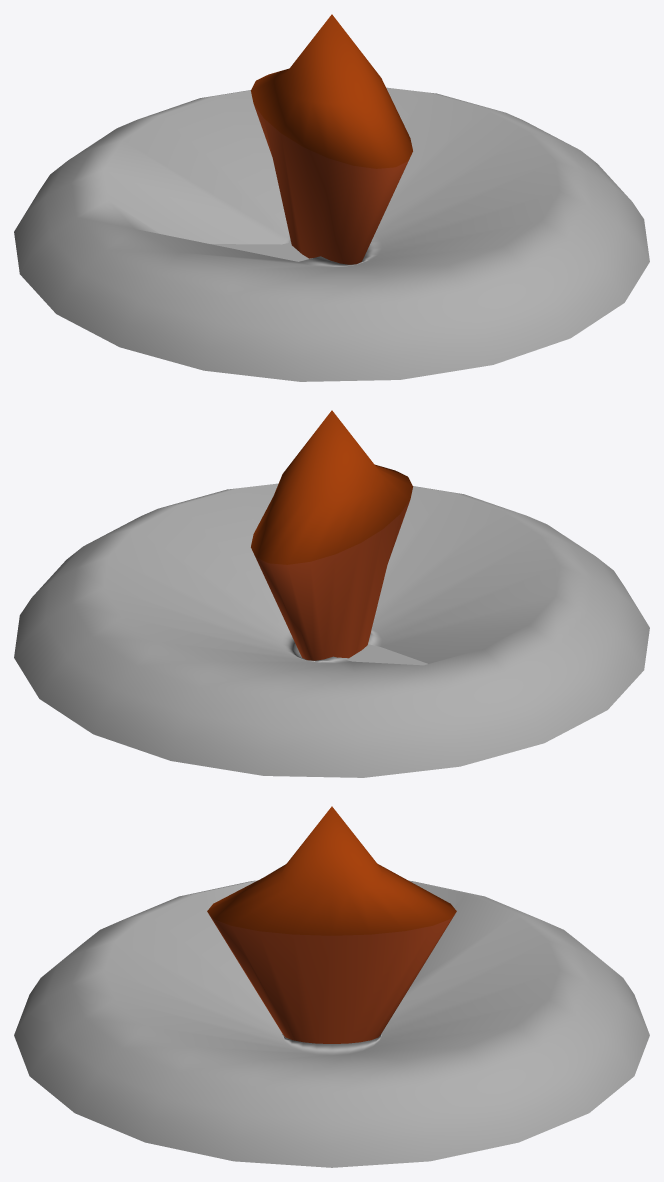
The model's file is mine.fbx.
3 renders of one model, top to bottom at view 1: azimuth 30°, elevation 25°; view 2: azimuth 150°, elevation 25°; view 3: azimuth 270°, elevation 25°, orthographic.
Visible parts, largest first — view 1: pSphere1; view 2: pSphere1; view 3: pSphere1.
Part boxes in pixels (x1=…): pSphere1: x1=14, y1=14, x2=649, y2=381; pSphere1: x1=14, y1=410, x2=649, y2=777; pSphere1: x1=14, y1=806, x2=649, y2=1167.
Size of the model in its own units: 97.76 by 49.83 by 99.12.
